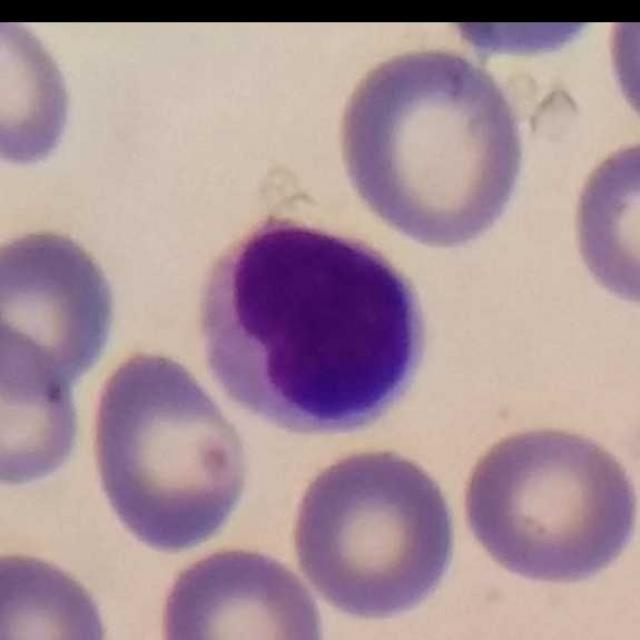Lymphocyte: (185, 200, 442, 446)
RBC: (330, 40, 533, 252), (82, 342, 255, 558), (286, 442, 463, 624), (456, 418, 640, 589), (0, 222, 124, 398), (152, 540, 330, 640), (0, 321, 87, 493), (564, 131, 640, 314), (0, 22, 80, 173), (0, 544, 115, 640), (429, 21, 622, 65), (600, 21, 640, 139)
